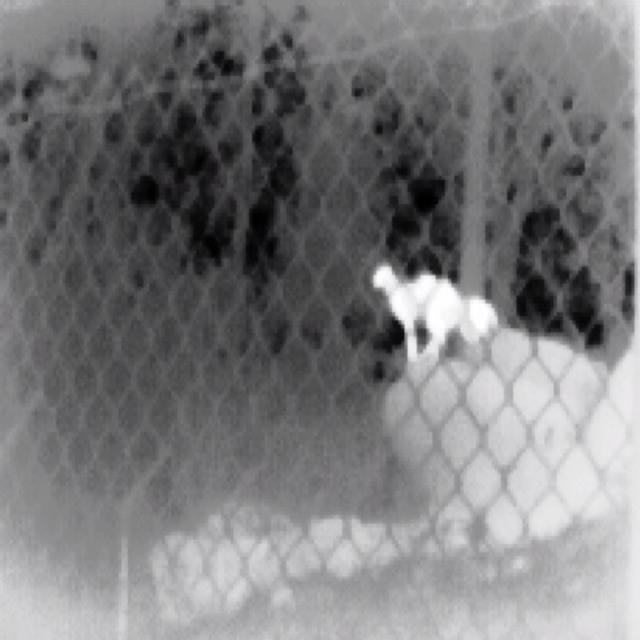cheetah: (374, 264, 448, 359), (416, 273, 501, 347)
